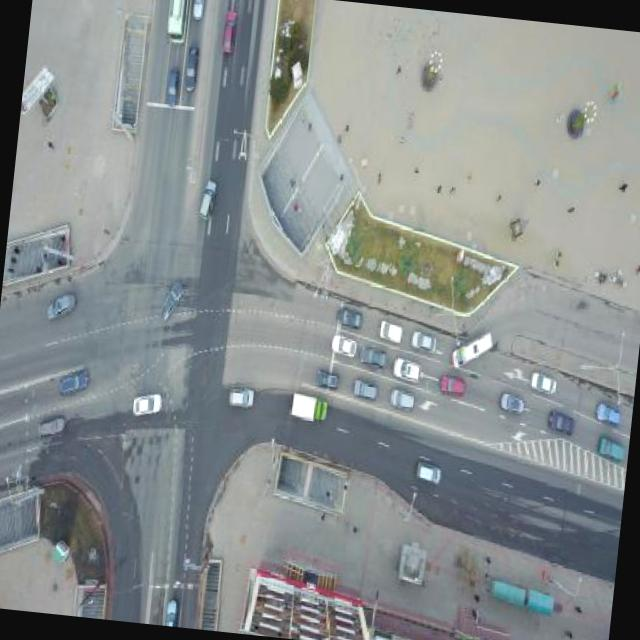bus: (163, 0, 191, 47)
car: (450, 325, 497, 372), (392, 538, 432, 590), (285, 384, 331, 424), (593, 421, 631, 464), (56, 360, 92, 400), (40, 290, 76, 325), (180, 40, 202, 96), (436, 365, 472, 399), (158, 276, 185, 319), (220, 3, 240, 58), (544, 404, 576, 438), (36, 408, 68, 442), (592, 397, 626, 428), (413, 454, 445, 486), (196, 178, 220, 220), (358, 344, 391, 374), (130, 389, 162, 419), (328, 330, 360, 360), (348, 373, 381, 402), (496, 388, 530, 416), (333, 302, 365, 331), (226, 382, 256, 412), (528, 366, 558, 396), (392, 354, 422, 384), (408, 328, 442, 354), (386, 383, 416, 412), (376, 316, 406, 344), (312, 366, 342, 392), (164, 64, 182, 107), (161, 596, 181, 627), (187, 0, 208, 21)
